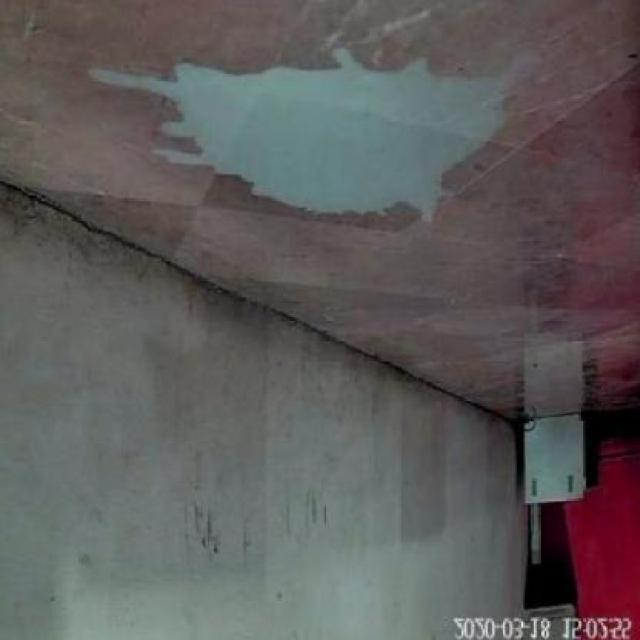spillage: (90, 14, 546, 229)
